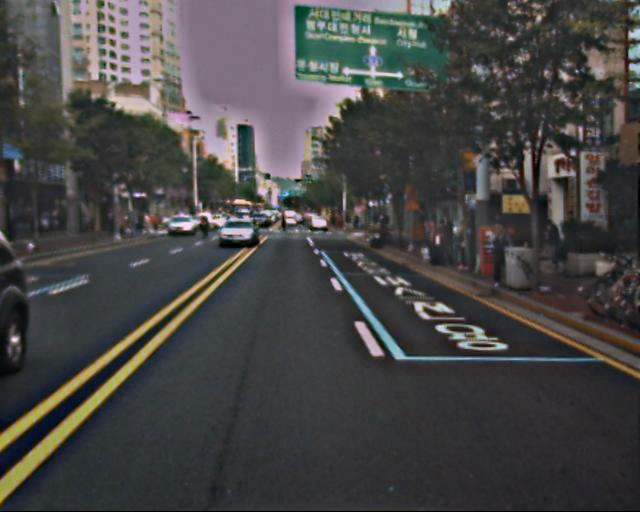person: (487, 226, 513, 289), (540, 218, 563, 273), (435, 217, 457, 270), (452, 222, 473, 274), (422, 218, 440, 263)
